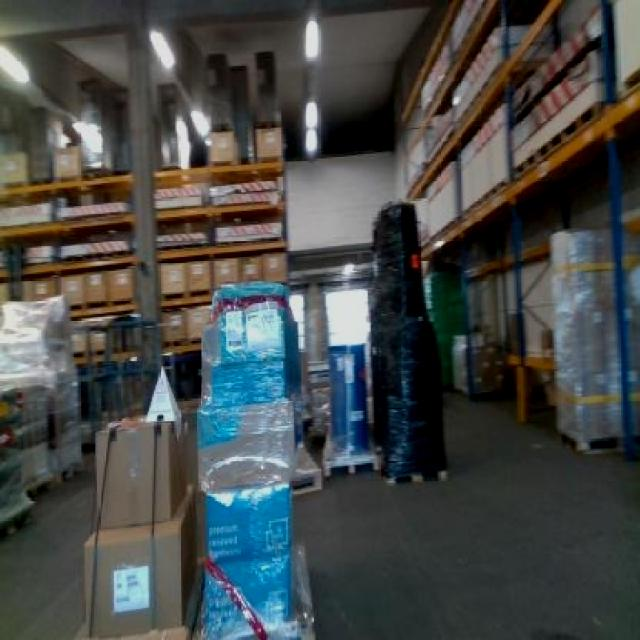pallets: (83, 368, 195, 637), (549, 229, 618, 448)
